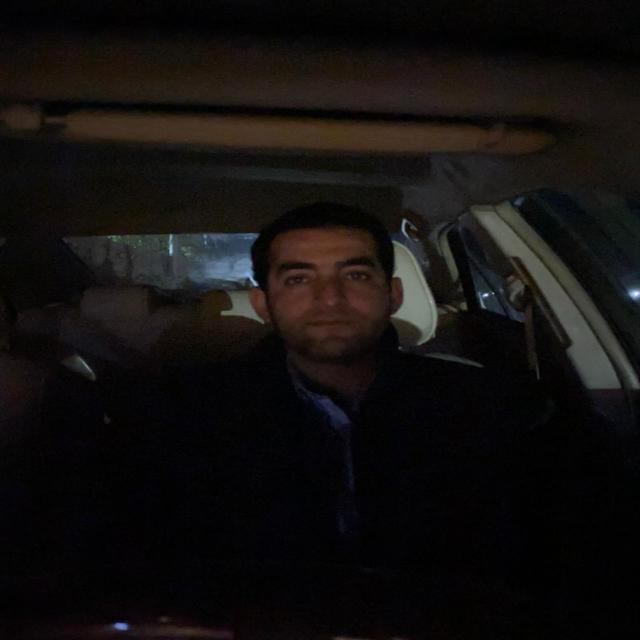person: (244, 209, 416, 369)
